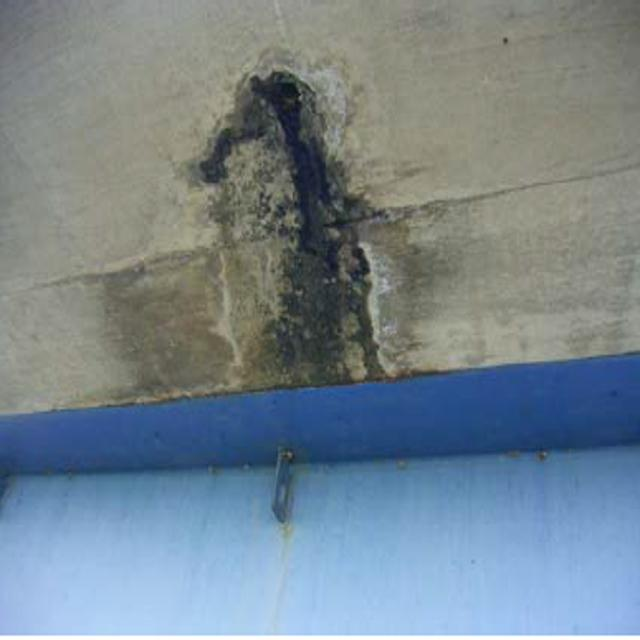leakage: (184, 44, 426, 394)
